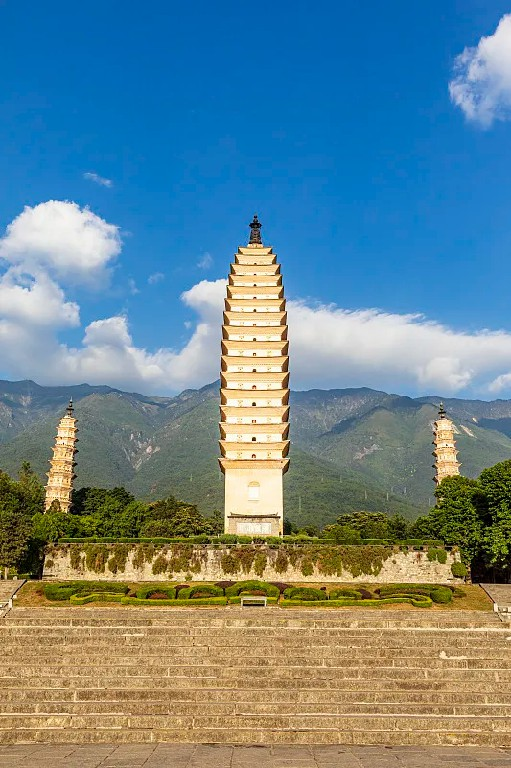ThreePagoda: (219, 215, 290, 537)
